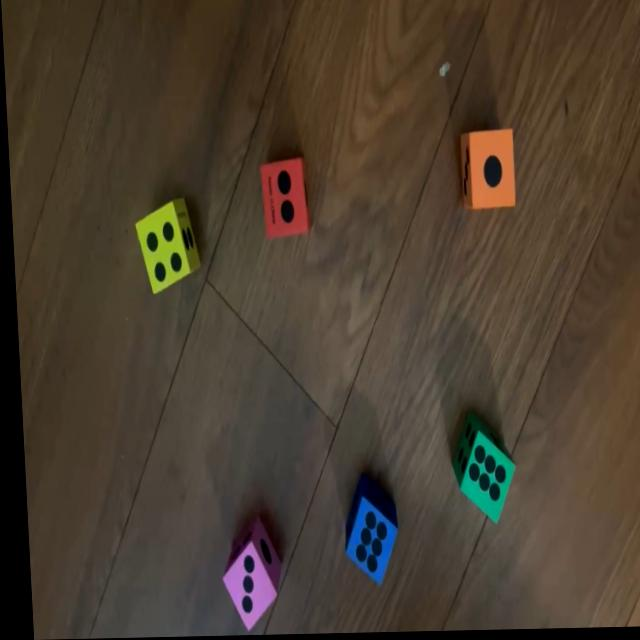cube: (442, 415, 509, 528), (335, 480, 393, 591), (260, 158, 305, 240)
